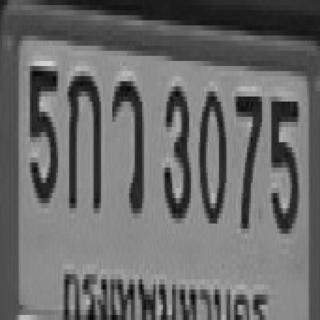A01: (65, 66, 99, 208)
A37: (110, 76, 142, 208)
N00: (197, 86, 224, 218)
N03: (161, 81, 189, 213)
N05: (270, 91, 298, 229), (28, 61, 56, 198)
N07: (234, 92, 260, 224)
